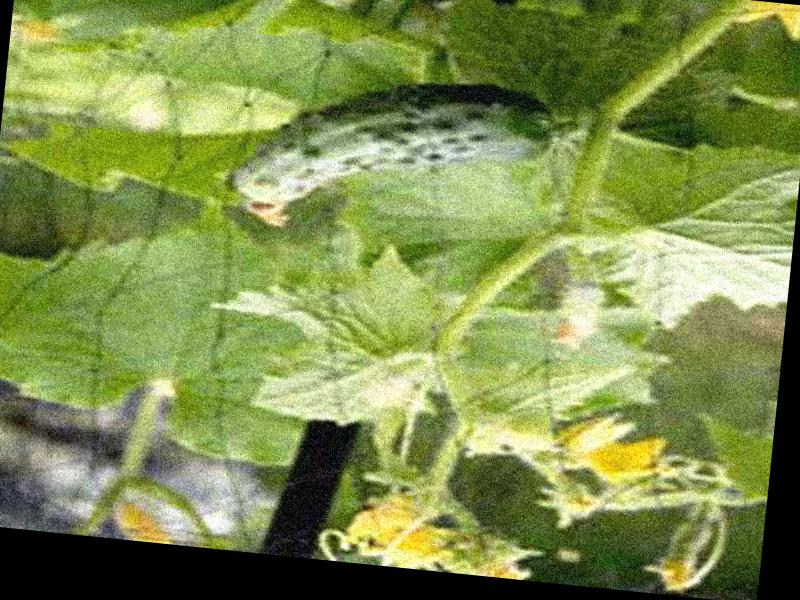Cucumber: (224, 61, 563, 255)
